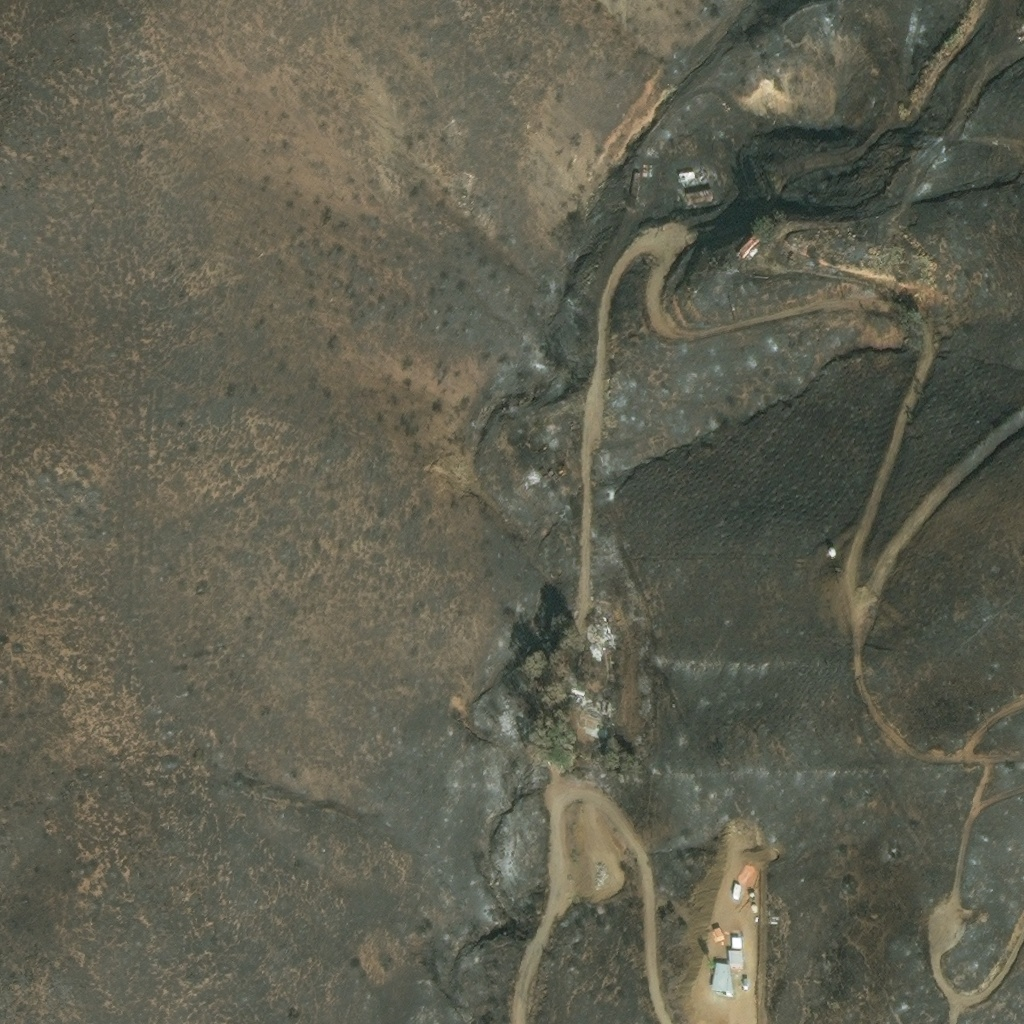0 no-damage: (711, 960, 729, 989), (686, 186, 713, 199), (729, 948, 743, 966), (732, 880, 741, 897), (730, 921, 742, 933), (732, 935, 742, 946)
2 major-damage: (677, 164, 709, 183)
3 destroyed: (735, 233, 758, 258), (625, 172, 641, 204), (738, 859, 757, 881), (581, 702, 603, 715), (526, 474, 538, 484)
